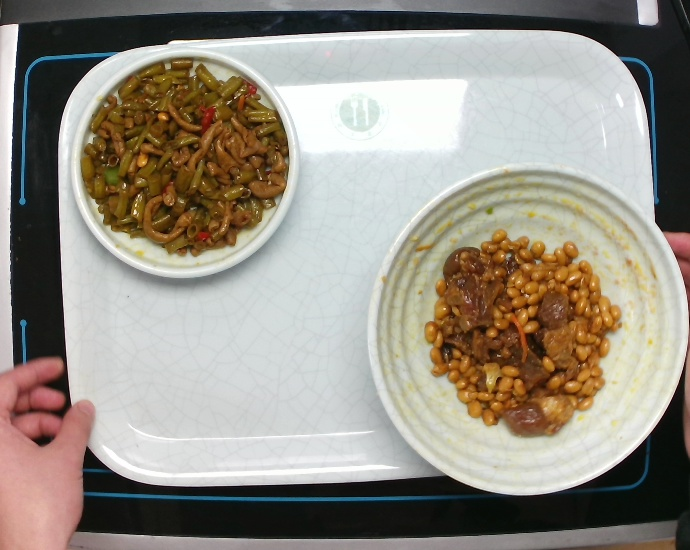JYsf-Da_Tang_Wan: (363, 163, 690, 497)
JYsf-Xiao_Yuan_Pan: (66, 45, 303, 285)
